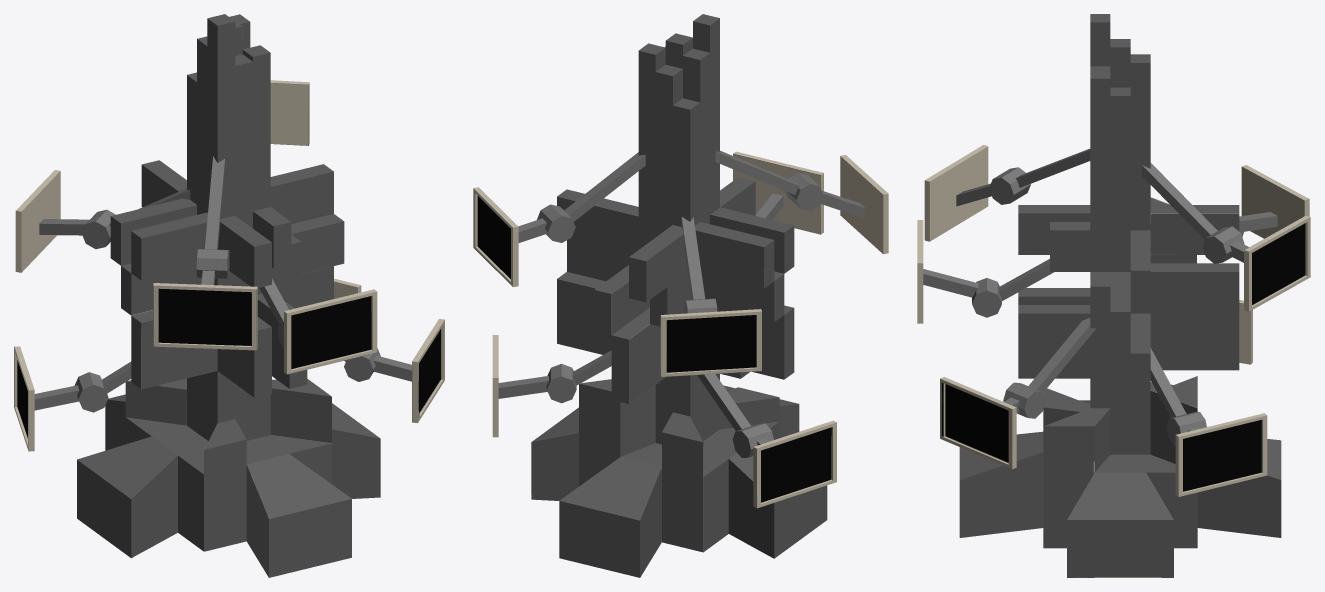
The model's file is Tower.obj.
The picture shows the model from 3 angles, left to right: view 1: azimuth 30°, elevation 25°; view 2: azimuth 150°, elevation 25°; view 3: azimuth 270°, elevation 25°; orthographic projection. The views are drawn at different scales.
Parts seen in each view (by area): view 1: Cube.001_Cube.003; view 2: Cube.001_Cube.003; view 3: Cube.001_Cube.003.
Boxes of the visible parts, x1,y1,x2,y2 form: Cube.001_Cube.003: (14, 14, 444, 577); Cube.001_Cube.003: (473, 14, 888, 577); Cube.001_Cube.003: (917, 14, 1310, 577).
Bounding box in the file's own units: 12.92 × 17.99 × 13.04.
4 materials, 4 textured.
